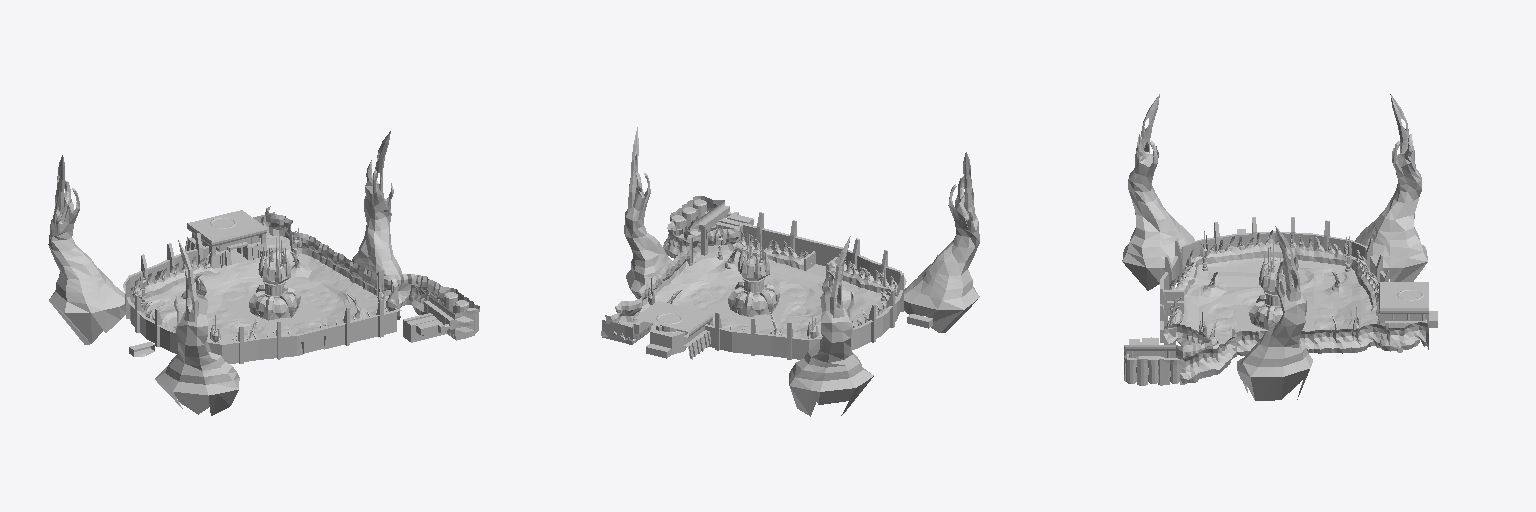
Rendered from Dragon Rock.obj.
3 renders of one model, left to right at view 1: azimuth 30°, elevation 25°; view 2: azimuth 150°, elevation 25°; view 3: azimuth 270°, elevation 25°, orthographic.
Visible parts, largest first — view 1: Mesh_0044; view 2: Mesh_0044; view 3: Mesh_0044.
Boxes of the visible parts, x1,y1,x2,y2 form: Mesh_0044: [48, 131, 479, 415]; Mesh_0044: [601, 127, 979, 416]; Mesh_0044: [1122, 94, 1437, 400].
Bounding box in the file's own units: 574 × 352 × 527.